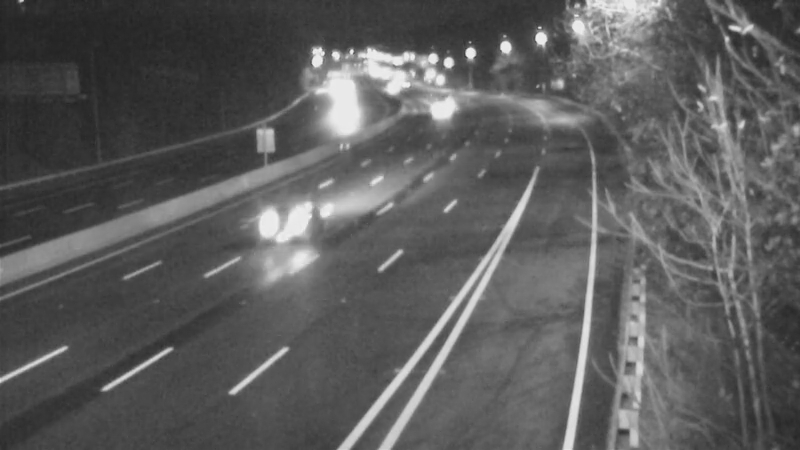vehicle: (240, 175, 320, 255), (372, 62, 422, 112), (424, 81, 474, 131)
